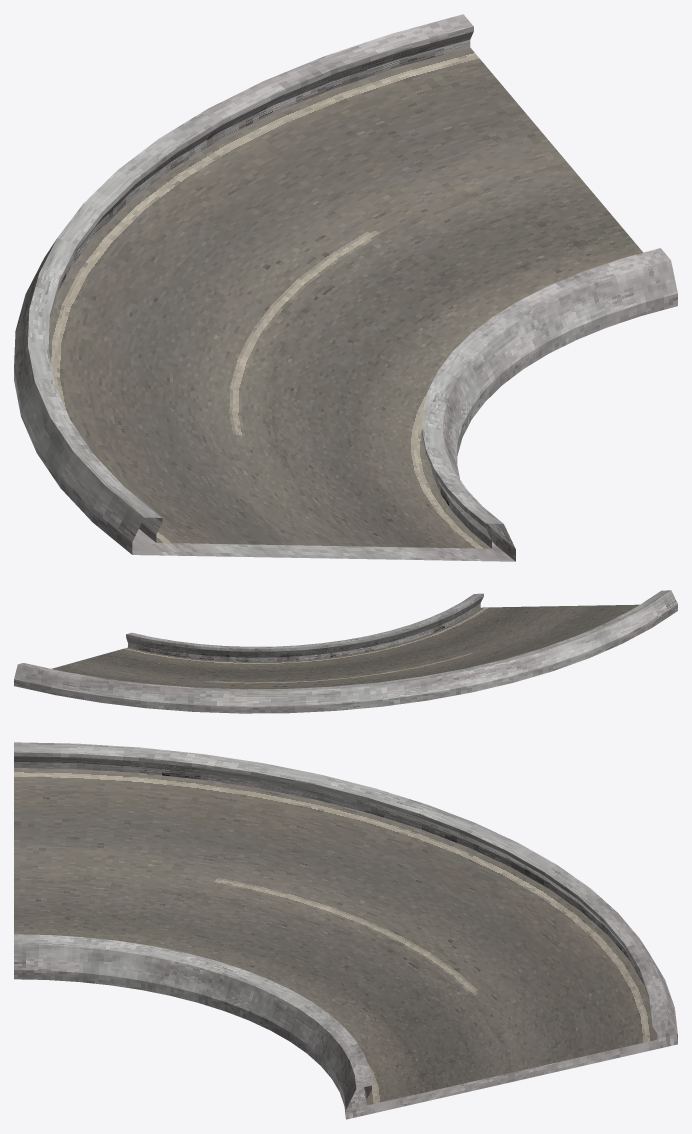
File: road-Turn-HalfBankedRight-HalfBankedRight-Even-Right-Size2.glb
3 renders of one model, top to bottom at view 1: azimuth 30°, elevation 25°; view 2: azimuth 150°, elevation 25°; view 3: azimuth 270°, elevation 25°, orthographic. The views are drawn at different scales.
Visible parts, largest first — view 1: road-Turn-HalfBankedRight-HalfBankedRight-Even-Right-Size2; view 2: road-Turn-HalfBankedRight-HalfBankedRight-Even-Right-Size2; view 3: road-Turn-HalfBankedRight-HalfBankedRight-Even-Right-Size2.
Part boxes in pixels (x1=…): road-Turn-HalfBankedRight-HalfBankedRight-Even-Right-Size2: x1=14, y1=14, x2=677, y2=561; road-Turn-HalfBankedRight-HalfBankedRight-Even-Right-Size2: x1=14, y1=590, x2=677, y2=713; road-Turn-HalfBankedRight-HalfBankedRight-Even-Right-Size2: x1=14, y1=742, x2=677, y2=1119.
Size of the model in its own units: 2 by 0.3359 by 2.
2 materials, 2 textured.
